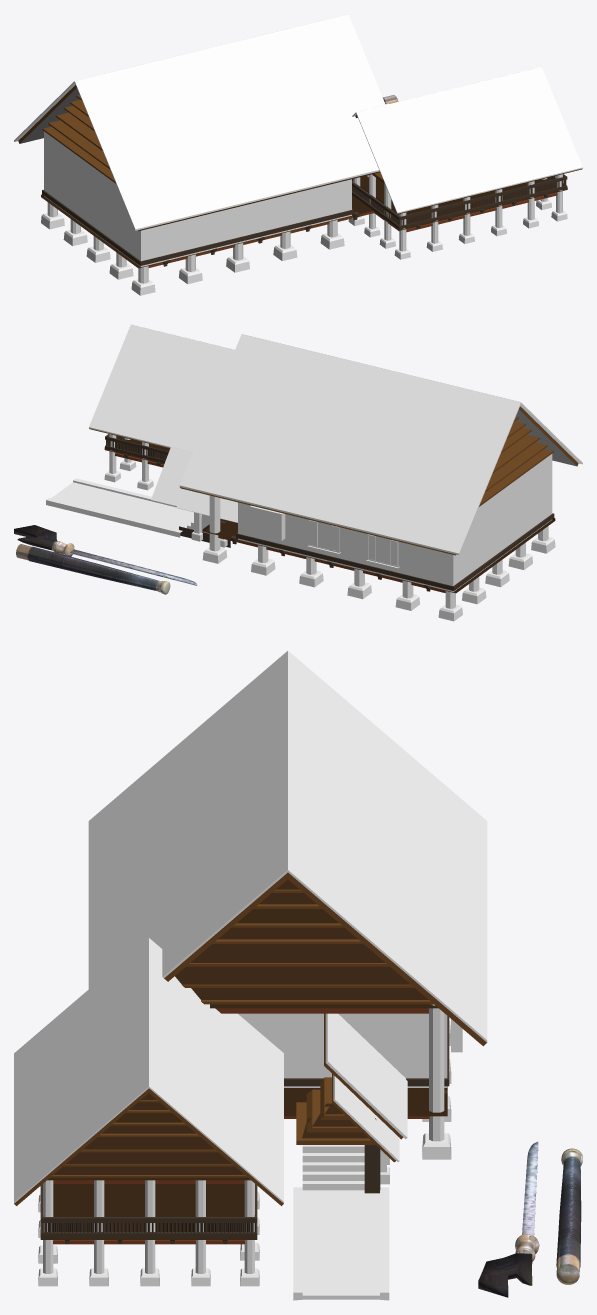
The model's file is Set_Bugis.glb.
3 views of the same model, one above another, from view 1: azimuth 30°, elevation 25°; view 2: azimuth 150°, elevation 25°; view 3: azimuth 270°, elevation 25° (orthographic). The views are drawn at different scales.
Parts seen in each view (by area): view 1: genteng.001, genteng, frame tengah.004, tiang 4.001, atap sekat.001, tiang 4, frame tengah.005, tiang 3.001, lantai, frame tengah, tiang 3, frame tengah.001 (+5 smaller); view 2: genteng.001, genteng, frame tengah.004, Plane, Badik, tiang 2.001, atap sekat.001, frame tengah.005, tiang 3.001, Plane.010, Plane.011, CTRL_Hole (+7 smaller); view 3: genteng.001, genteng, Plane, frame tengah.004, lantai, Badik, Plane.011, atap sekat.001, tiang 1, sekat atap 2.001, sekat atap 3.001, tiang 2.001 (+18 smaller).
Part boxes in pixels (x1,y1,x2,y2): genteng.001: (14, 14, 385, 230); genteng: (352, 67, 582, 213); frame tengah.004: (44, 131, 351, 266); tiang 4.001: (131, 220, 344, 295); atap sekat.001: (42, 95, 115, 183); tiang 4: (394, 181, 538, 259); frame tengah.005: (42, 189, 353, 265); tiang 3.001: (41, 202, 133, 279); lantai: (352, 176, 567, 230); frame tengah: (352, 176, 566, 226); tiang 3: (348, 174, 395, 248); frame tengah.001: (352, 174, 567, 220); genteng.001: (179, 334, 582, 555); genteng: (89, 324, 234, 451); frame tengah.004: (238, 454, 552, 591); Plane: (46, 478, 209, 537); Badik: (14, 525, 197, 594); tiang 2.001: (202, 495, 419, 610); atap sekat.001: (479, 416, 553, 506); frame tengah.005: (236, 513, 554, 590); tiang 3.001: (438, 542, 532, 621); Plane.010: (151, 446, 192, 506); Plane.011: (176, 489, 237, 522); CTRL_Hole: (250, 505, 285, 540); genteng.001: (88, 651, 487, 1046); genteng: (14, 938, 283, 1205); Plane: (293, 1145, 389, 1300); frame tengah.004: (238, 1013, 447, 1087); lantai: (40, 1184, 257, 1239); Badik: (478, 1141, 582, 1297); Plane.011: (324, 1013, 407, 1139); atap sekat.001: (182, 889, 433, 1004); tiang 1: (38, 1180, 210, 1286); sekat atap 2.001: (175, 966, 410, 984); sekat atap 3.001: (190, 944, 385, 962); tiang 2.001: (422, 1004, 451, 1159).
Size of the model in its own units: 21.12 by 8.78 by 14.6.
15 materials, 1 textured.
